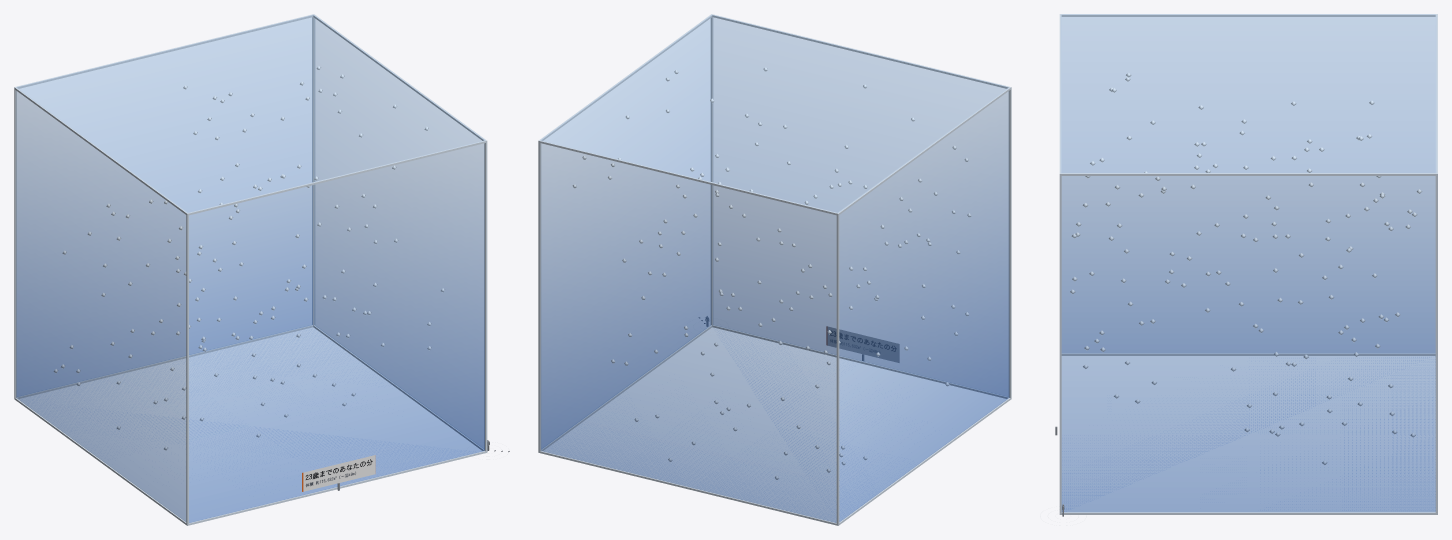
File: cube_life_23.glb
The picture shows the model from 3 angles, left to right: view 1: azimuth 30°, elevation 25°; view 2: azimuth 150°, elevation 25°; view 3: azimuth 270°, elevation 25°; orthographic projection. The views are drawn at different scales.
Visible parts, largest first — view 1: co2, edge, dots, label; view 2: co2, edge, dots, label; view 3: co2, edge, dots.
Boxes of the visible parts, x1=… form: co2: x1=16, y1=15, x2=484, y2=522; edge: x1=14, y1=14, x2=487, y2=525; dots: x1=54, y1=66, x2=444, y2=450; label: x1=302, y1=455, x2=375, y2=491; co2: x1=541, y1=15, x2=1009, y2=522; edge: x1=538, y1=14, x2=1011, y2=525; dots: x1=572, y1=67, x2=971, y2=479; label: x1=826, y1=326, x2=899, y2=362; co2: x1=1061, y1=14, x2=1436, y2=511; edge: x1=1059, y1=14, x2=1437, y2=514; dots: x1=1070, y1=72, x2=1422, y2=465.
Size of the model in its own units: 52.43 by 48.72 by 51.53.
Materials: 8 (3 with a texture image).
